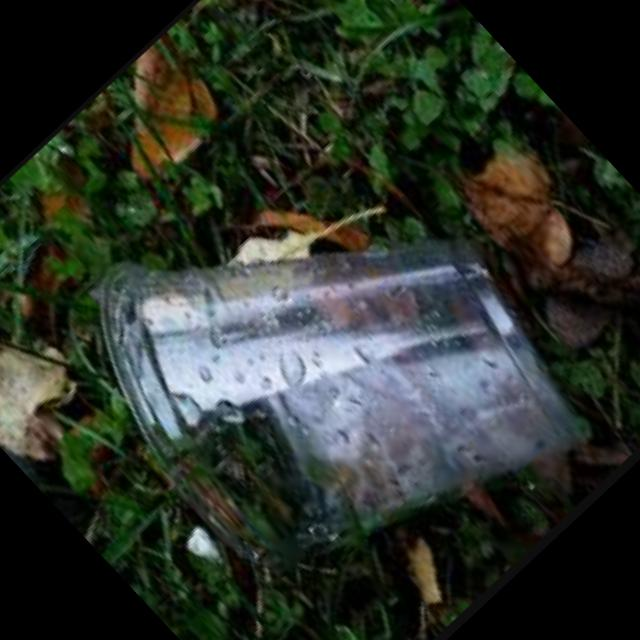GelasPlastik: (29, 68, 628, 640)
